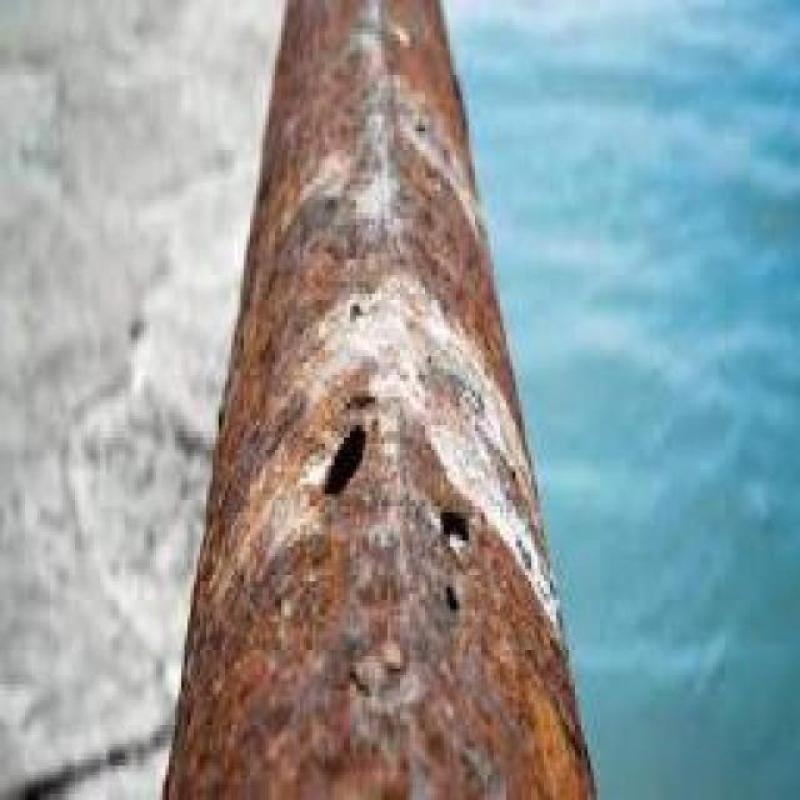Fracture: (314, 414, 393, 509), (439, 497, 478, 550)
corrosion: (249, 5, 503, 381), (189, 639, 578, 792)
